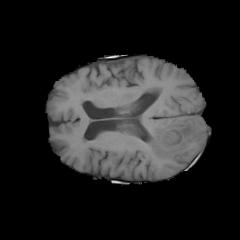glioma: (145, 120, 193, 160)
